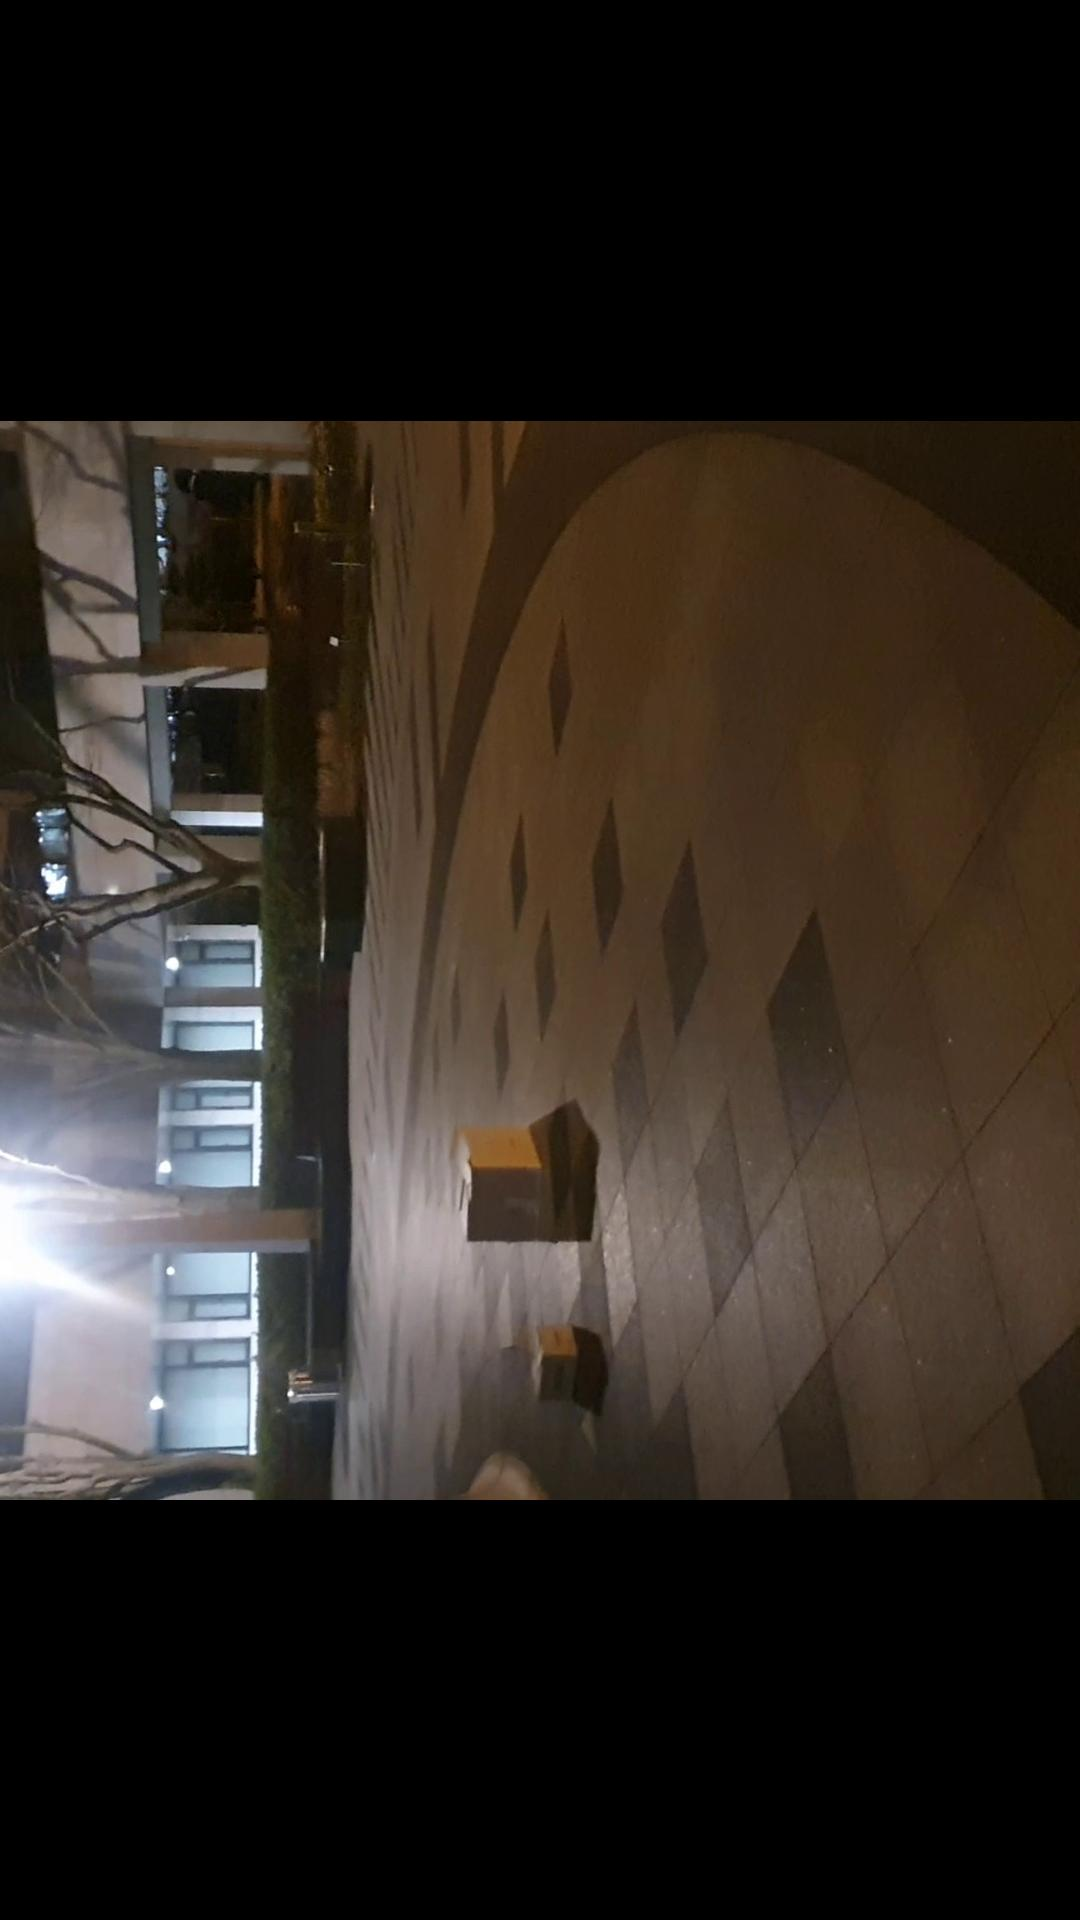Box: (435, 1137, 556, 1240), (524, 1317, 595, 1399)
